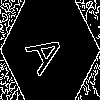A: (25, 25, 74, 78)
